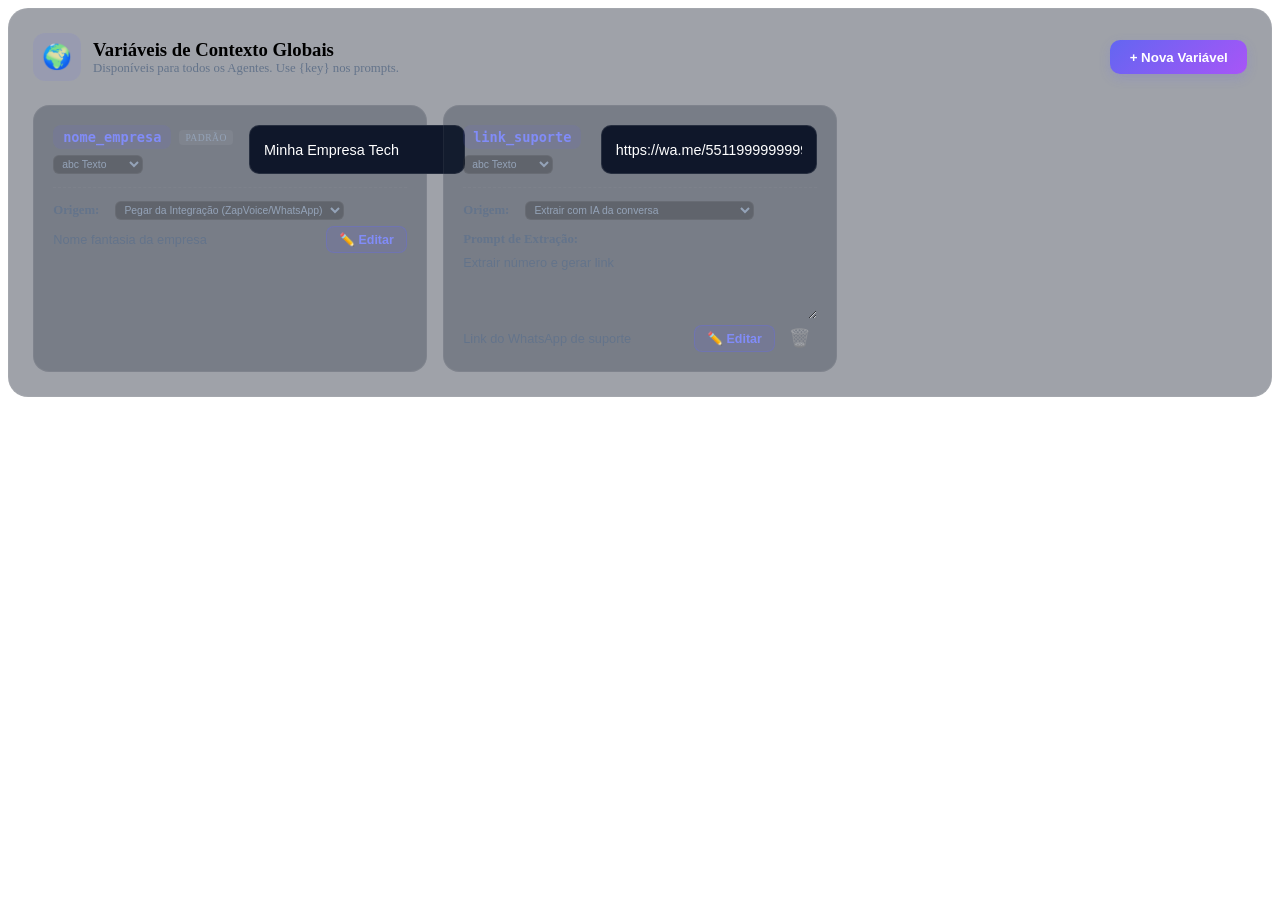
it: GlobalContextManager Component › deve abrir o modal expandido ao clicar no botão de maximizar no modal de criação de variável
The width and height of the screenshot is (1280, 900).
Click the button "+ Nova Variável" at (1179, 57), box [1110,40,1247,74]
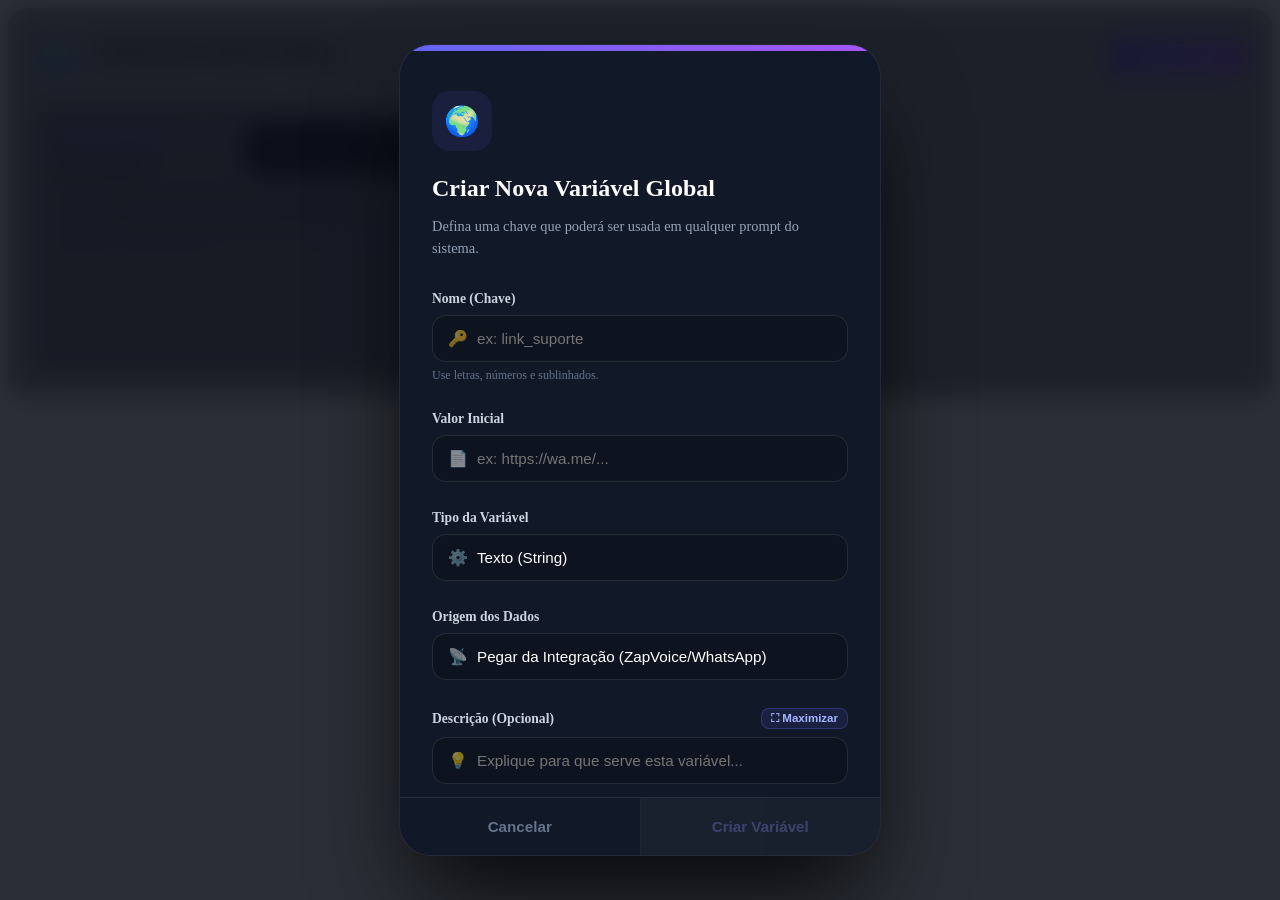
expect the heading "Criar Nova Variável Global" is shown: met, box [432,175,715,201]
expect the button with test id "maximize-add-desc-btn" is shown: met
Click the button with test id "maximize-add-desc-btn" at (804, 719), box [761,708,848,729]
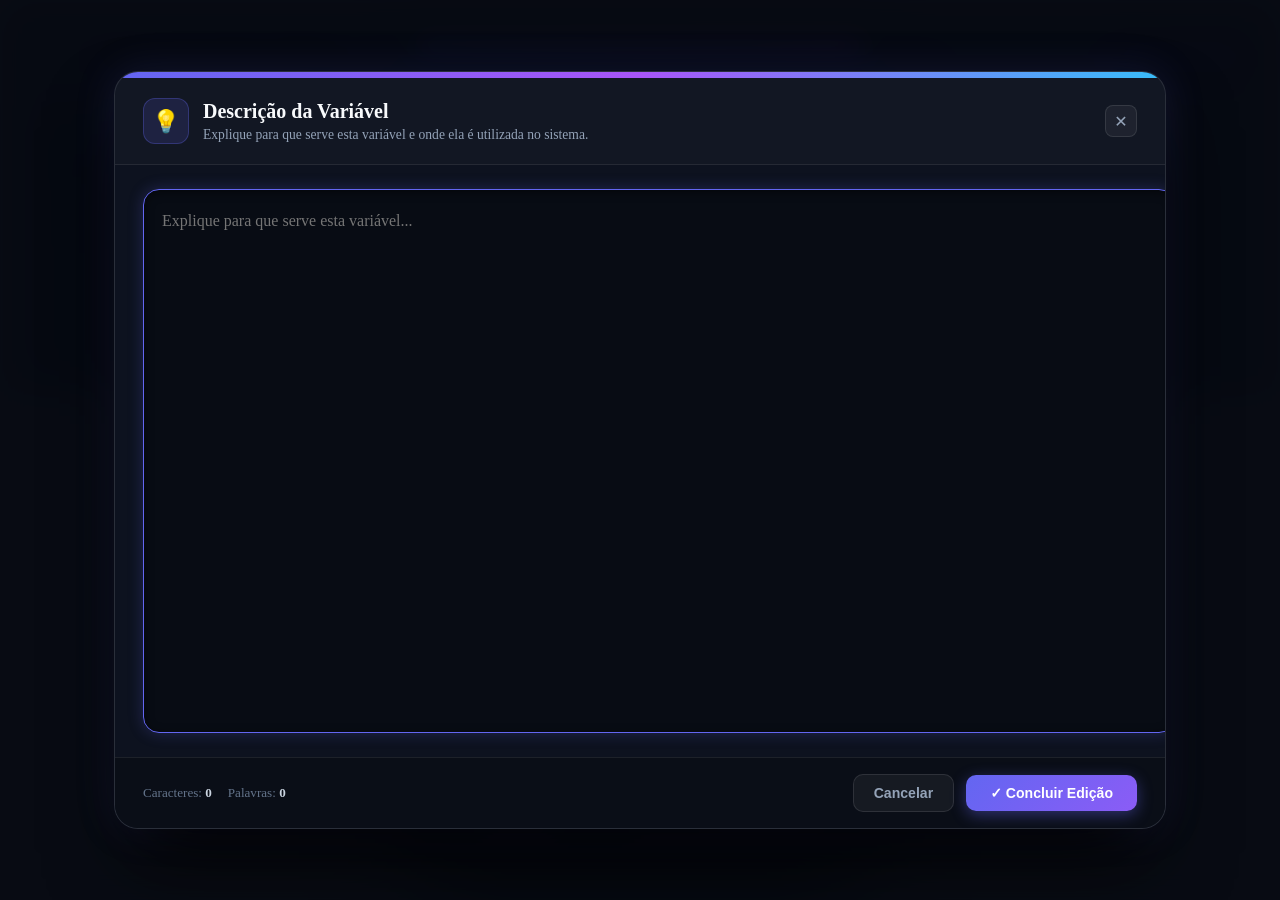
expect the element with test id "expanded-field-modal" is shown: met
expect the heading "Descrição da Variável" is shown: met, box [203,100,388,122]
Type "Esta variável guarda a descrição completa" into the text box with test id "expanded-field-textarea" at (659, 461), box [143,189,1175,733]
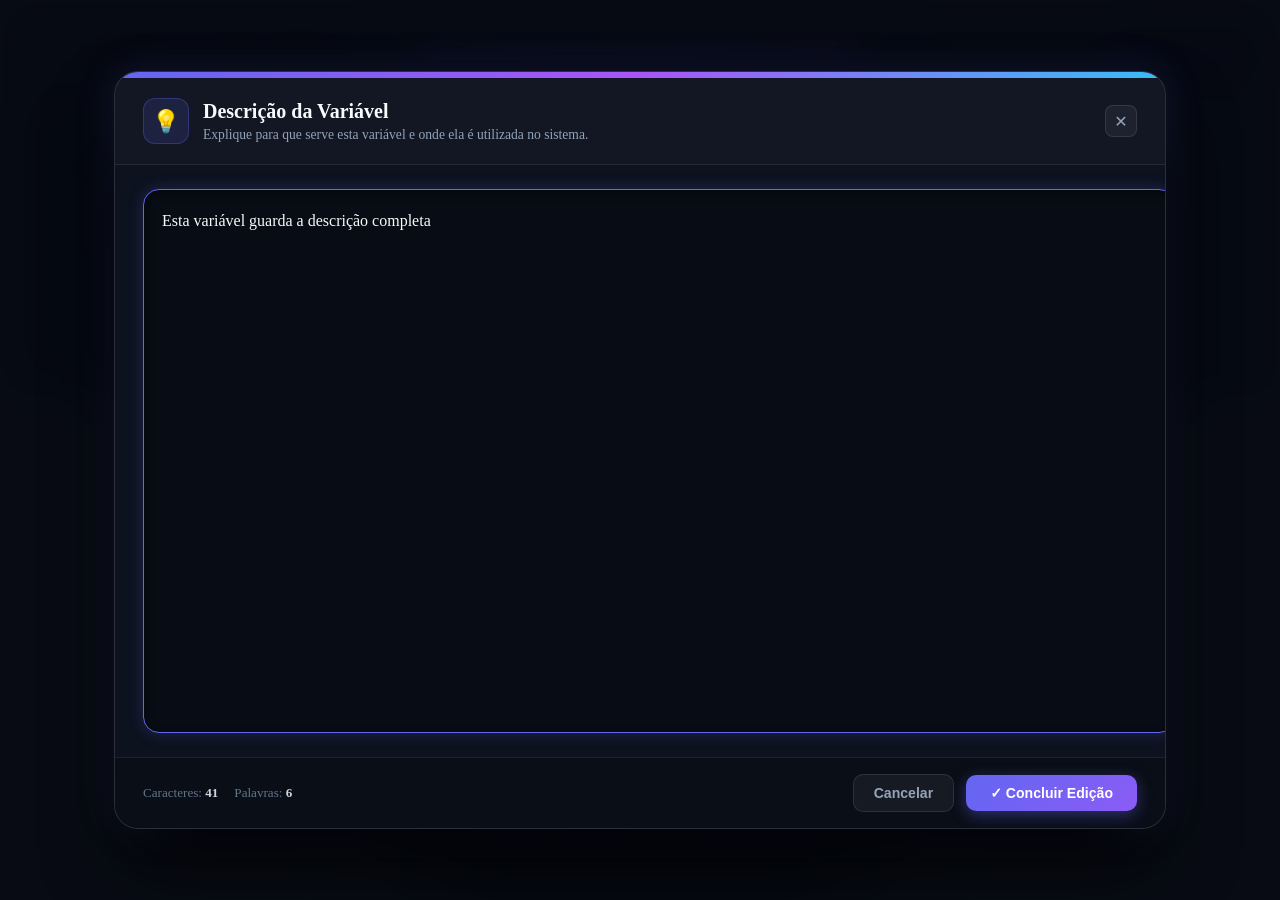
Click the button with test id "expanded-field-save-btn" at (1052, 793), box [966,775,1137,811]
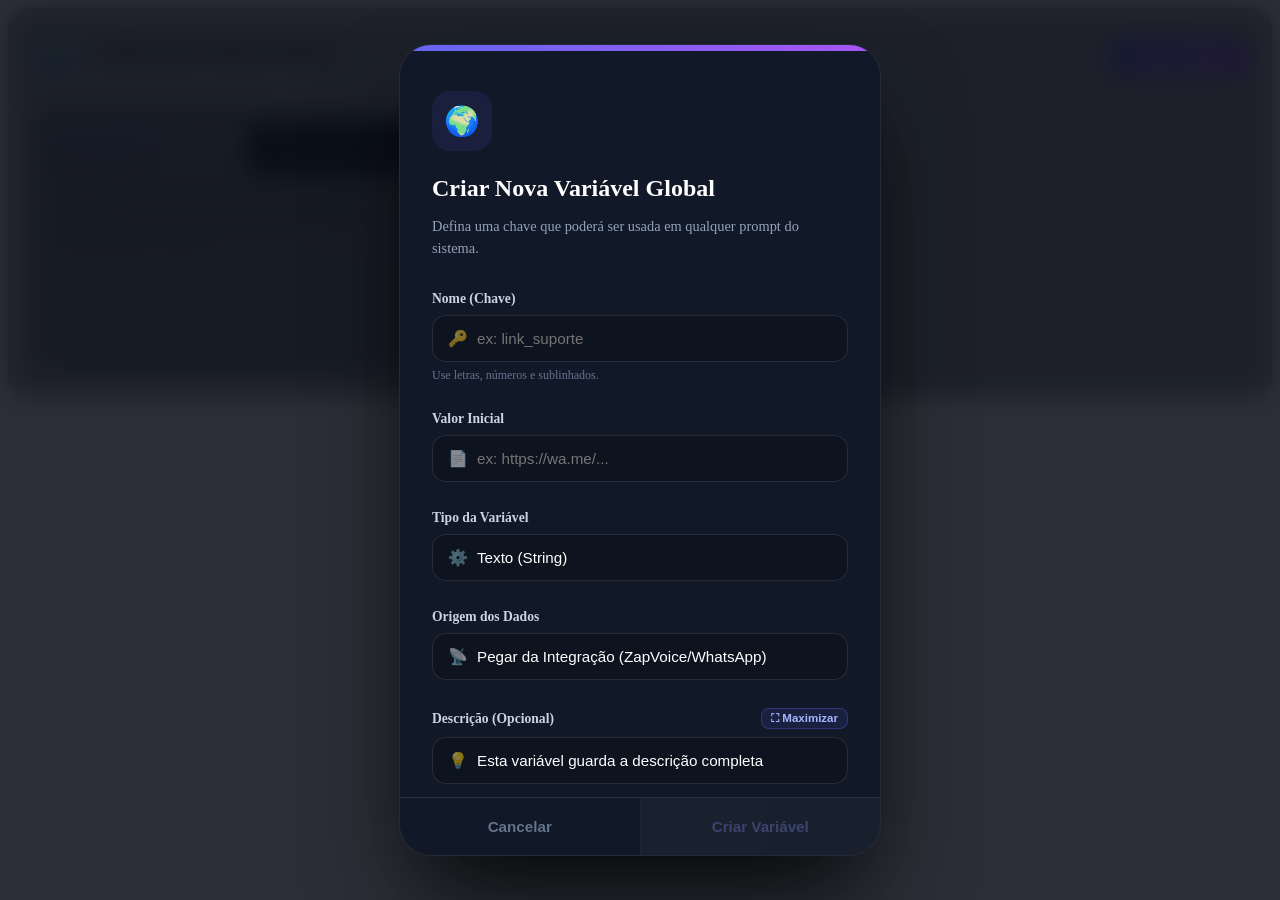
expect the field with placeholder "Explique para que serve esta variável..." holds "Esta variável guarda a descrição completa": met, box [432,737,848,784]
